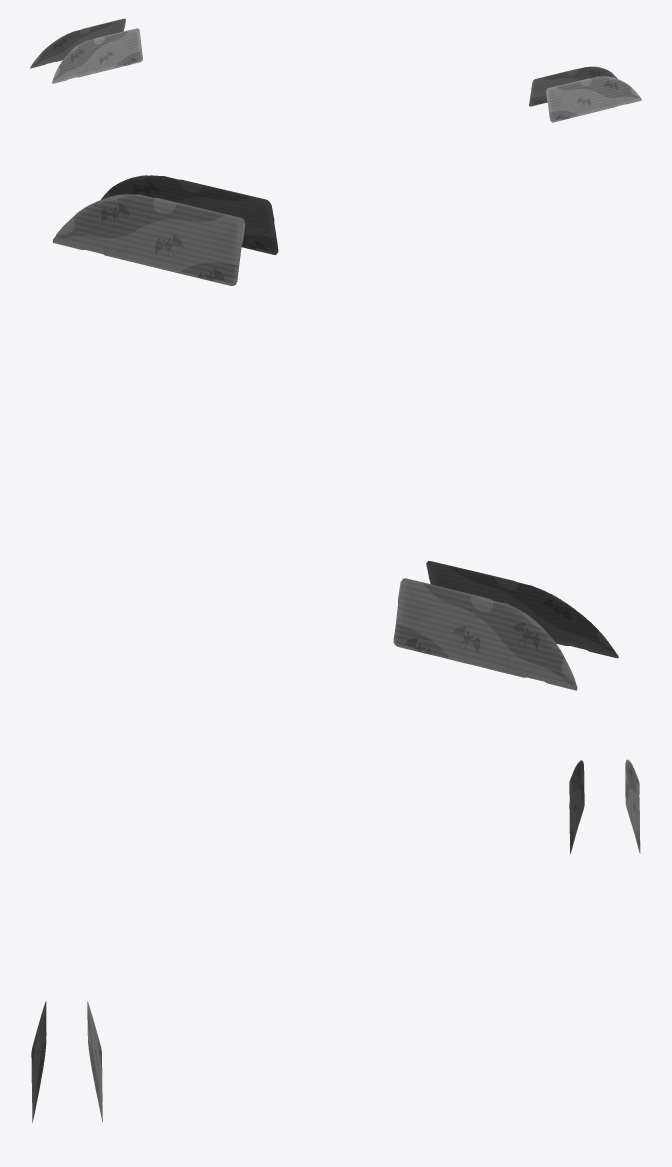
File: pref_sm_4v4beachtech_WSJ_bk_downblock_d01a_lv2.fbx
3 renders of one model, top to bottom at view 1: azimuth 30°, elevation 25°; view 2: azimuth 150°, elevation 25°; view 3: azimuth 270°, elevation 25°, orthographic. The views are drawn at different scales.
Parts seen in each view (by area): view 1: pref_sm_4v4beachtech_WSJ_bk_downblock_d01a_lv2; view 2: pref_sm_4v4beachtech_WSJ_bk_downblock_d01a_lv2; view 3: pref_sm_4v4beachtech_WSJ_bk_downblock_d01a_lv2.
Part boxes in pixels (x1,y1,x2,y2): pref_sm_4v4beachtech_WSJ_bk_downblock_d01a_lv2: (30,18,641,122); pref_sm_4v4beachtech_WSJ_bk_downblock_d01a_lv2: (52,175,618,690); pref_sm_4v4beachtech_WSJ_bk_downblock_d01a_lv2: (31,759,640,1122).
Bounding box in the file's own units: 15.65 × 1.53 × 11.63.
